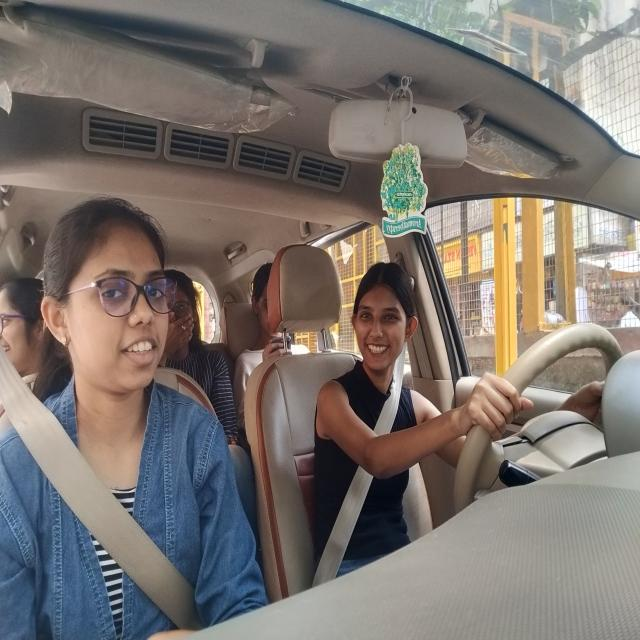person: (48, 192, 172, 400), (341, 253, 425, 395), (0, 249, 48, 389), (164, 238, 203, 372), (247, 250, 293, 350)
